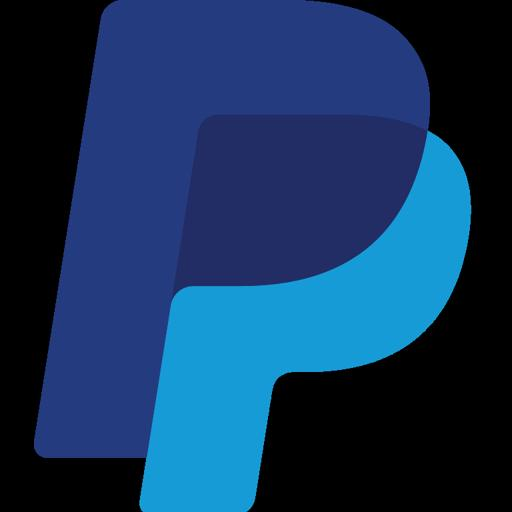PayPal: (34, 0, 478, 512)
